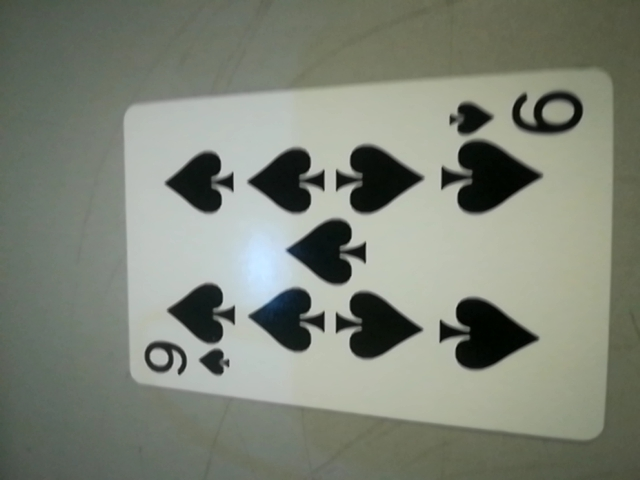ht 9: (449, 84, 603, 148)
